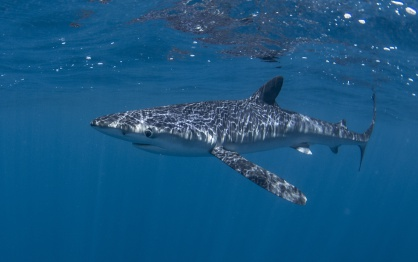Azul: (87, 71, 390, 211)
